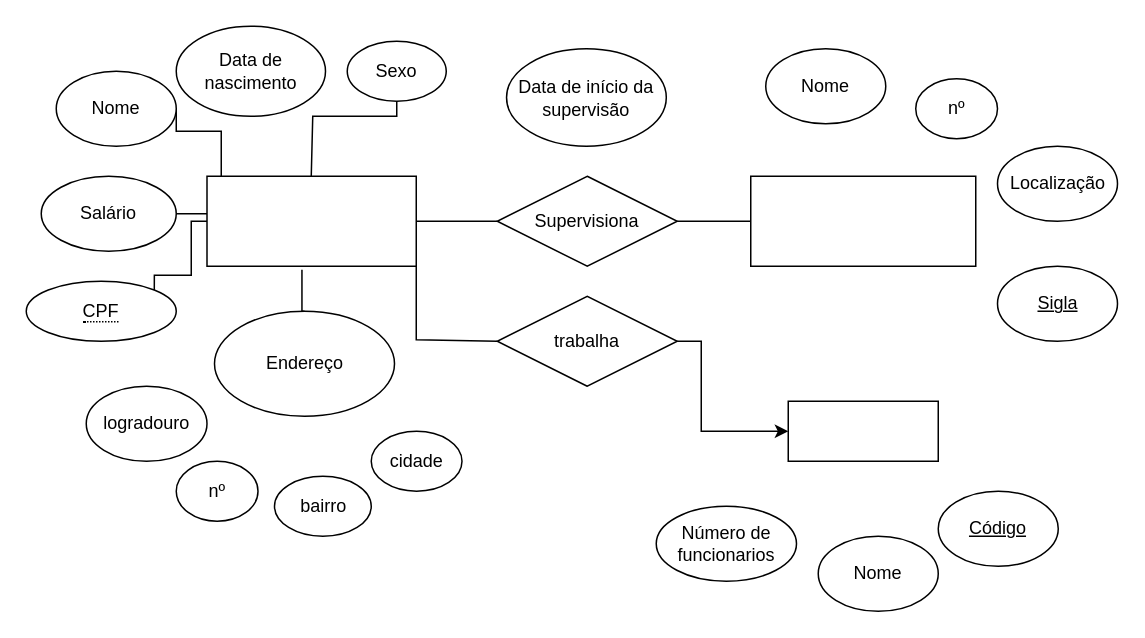
The diagram is 1145 pixels wide and 638 high, and some of its shapes have lost their labels. The centre of each missing label's shape, as x and y in pixels:
Departamento: pixel 862 220
Funcionário: pixel 311 220
Projeto: pixel 862 430
